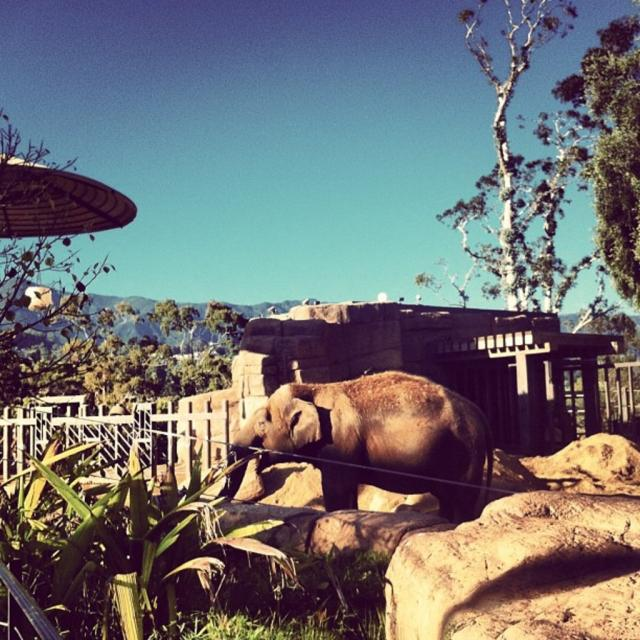Elephant: (212, 364, 508, 549)
